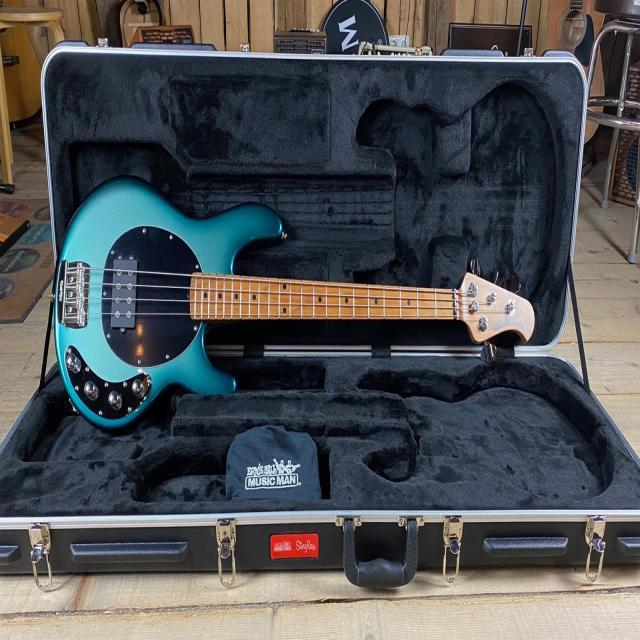bass: (54, 178, 533, 427)
